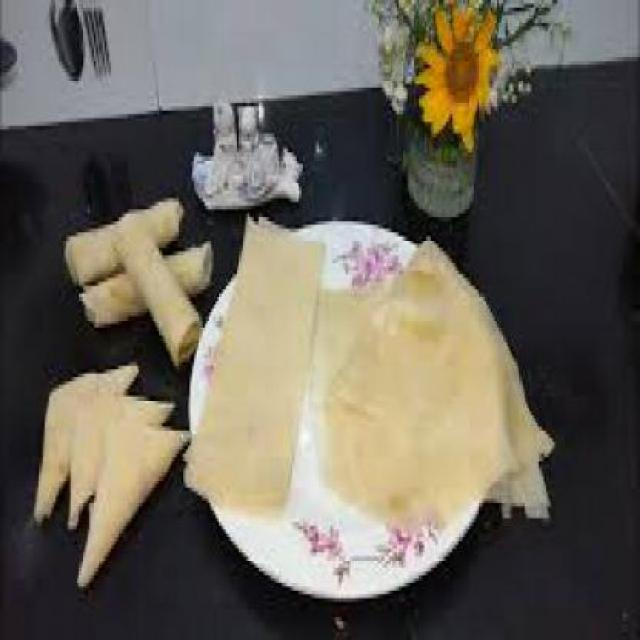samosa: (36, 362, 195, 587)
spring rolls: (68, 183, 215, 354)
